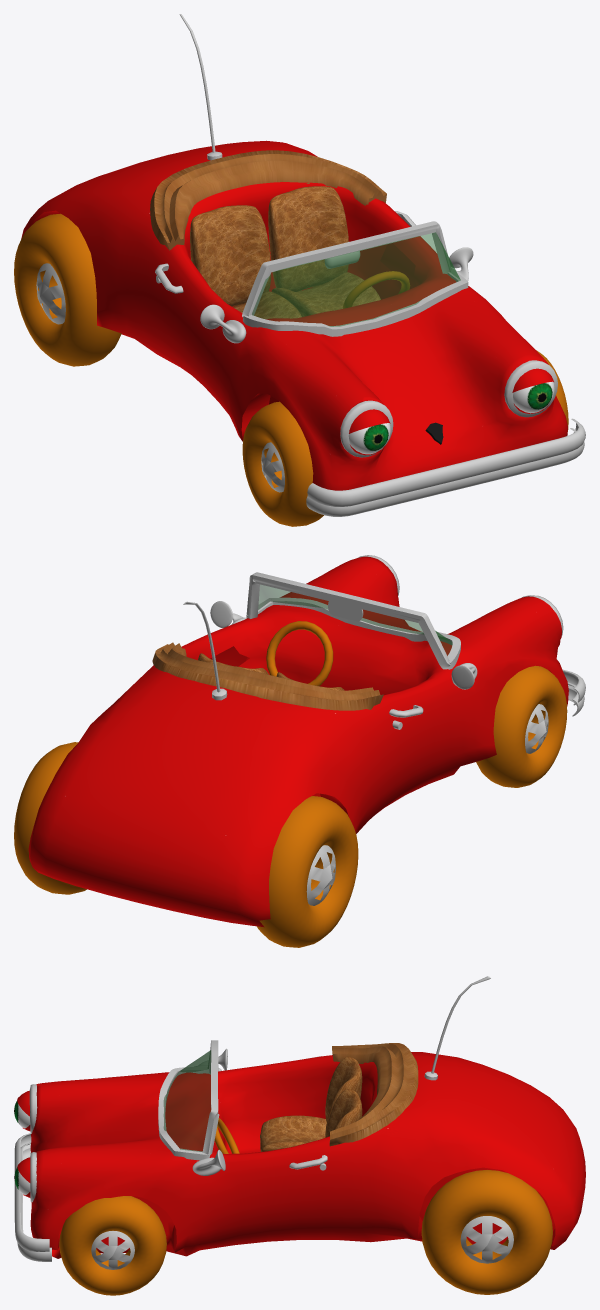
File: RoaryForPoly.obj
3 renders of one model, top to bottom at view 1: azimuth 30°, elevation 25°; view 2: azimuth 150°, elevation 25°; view 3: azimuth 270°, elevation 25°, orthographic. The views are drawn at different scales.
Parts seen in each view (by area): view 1: body, Roary_Roadster, windshield, tire_RR, Chrome_bits, Tire_RF, upper_bumper, lower_bumper, R_eye, L_eye; view 2: body, tire_RR, Chrome_bits, Tire_RF, Roary_Roadster, tire_LR, windshield; view 3: body, tire_LR, Roary_Roadster, Tire_LF, Chrome_bits, windshield, upper_bumper, lower_bumper.
Boxes of the visible parts, x1=… form: body: x1=21, y1=140, x2=567, y2=490; Roary_Roadster: x1=150, y1=150, x2=443, y2=444; windshield: x1=252, y1=232, x2=460, y2=326; tire_RR: x1=14, y1=213, x2=121, y2=366; Chrome_bits: x1=155, y1=14, x2=557, y2=457; Tire_RF: x1=242, y1=401, x2=323, y2=526; upper_bumper: x1=307, y1=418, x2=585, y2=506; lower_bumper: x1=306, y1=428, x2=584, y2=516; R_eye: x1=348, y1=423, x2=390, y2=454; L_eye: x1=513, y1=381, x2=554, y2=413; body: x1=28, y1=556, x2=568, y2=927; tire_RR: x1=257, y1=796, x2=358, y2=947; Chrome_bits: x1=183, y1=555, x2=563, y2=729; Tire_RF: x1=476, y1=665, x2=567, y2=787; Roary_Roadster: x1=152, y1=621, x2=383, y2=710; tire_LR: x1=14, y1=742, x2=86, y2=894; windshield: x1=258, y1=584, x2=452, y2=655; body: x1=30, y1=1052, x2=585, y2=1258; tire_LR: x1=421, y1=1169, x2=552, y2=1294; Roary_Roadster: x1=214, y1=1043, x2=418, y2=1153; Tire_LF: x1=59, y1=1196, x2=166, y2=1295; Chrome_bits: x1=29, y1=976, x2=490, y2=1202; windshield: x1=163, y1=1050, x2=211, y2=1151; upper_bumper: x1=14, y1=1133, x2=49, y2=1251; lower_bumper: x1=17, y1=1142, x2=51, y2=1261.
Bounding box in the file's own units: 93.97 × 97.45 × 189.
Materials: 9 (4 with a texture image).
